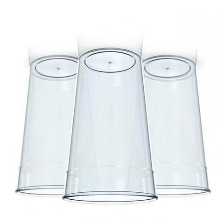glass: (59, 45, 158, 210), (126, 54, 216, 200), (7, 52, 88, 201)
